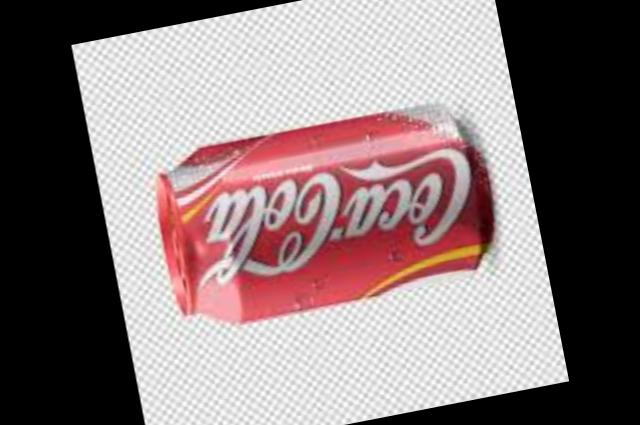metal: (154, 113, 489, 325)
